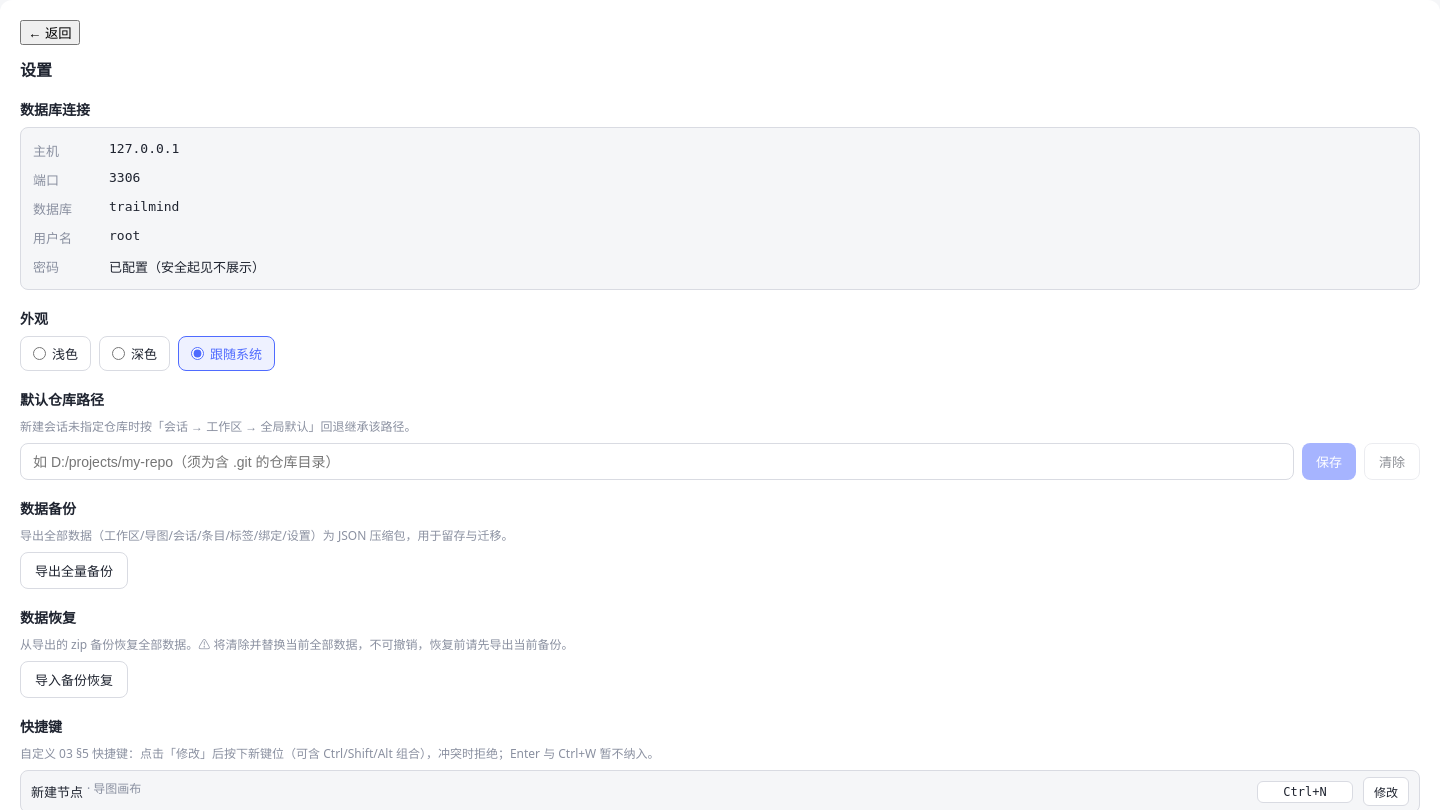
Scenario: SettingsPanel 设置页（M4 任务四） › 快捷键：与既有键位冲突时拒绝并提示（v1.2 P2）
The image size is (1440, 810).
Expected: the text "127.0.0.1" is shown, [109, 141, 180, 160]
// 「新建节点」默认 Ctrl+N，尝试设为 Ctrl+S → 与「手动保存」冲突
Click the button "修改".
click(1386, 792)  # box [1363, 777, 1409, 806]
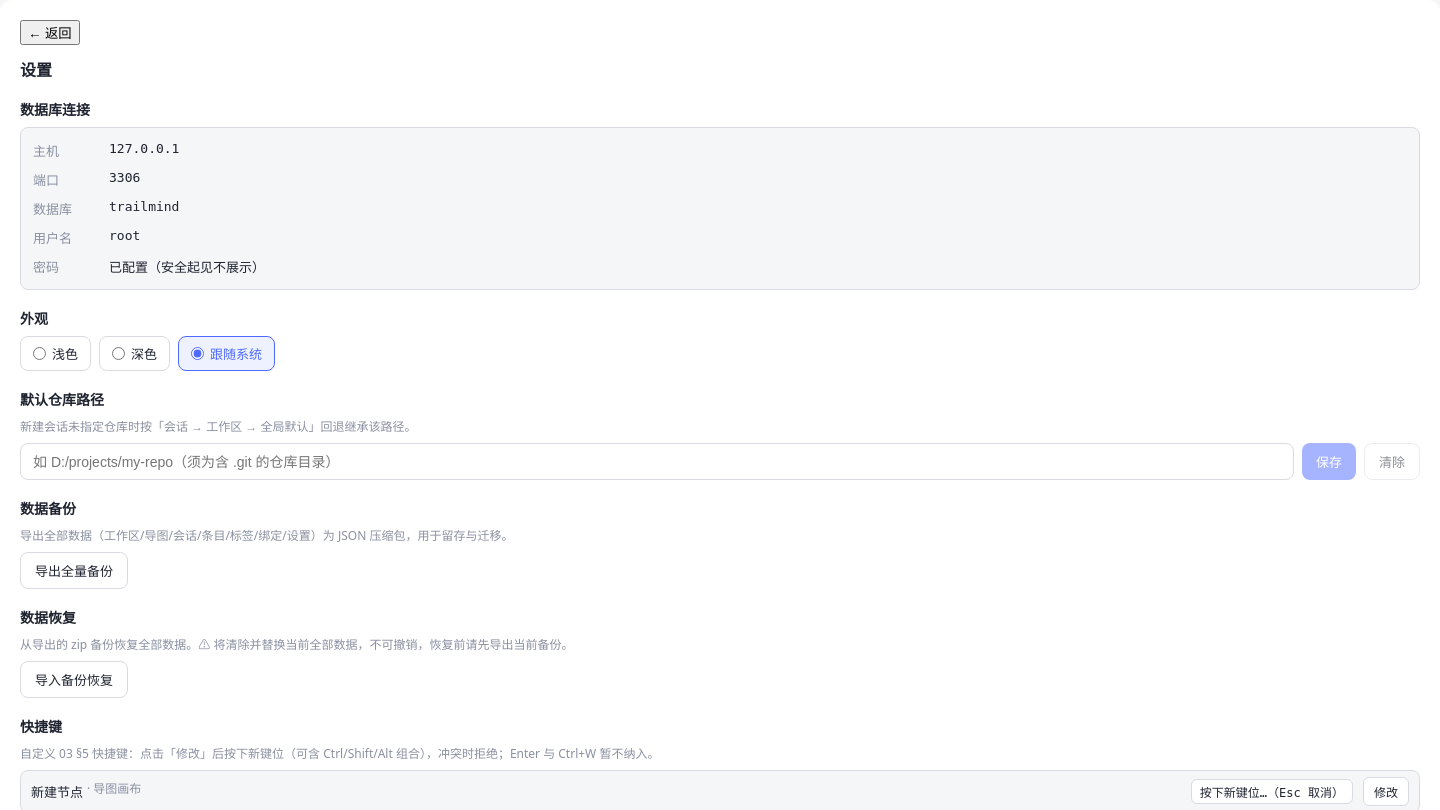
Press s
(page scrolled)
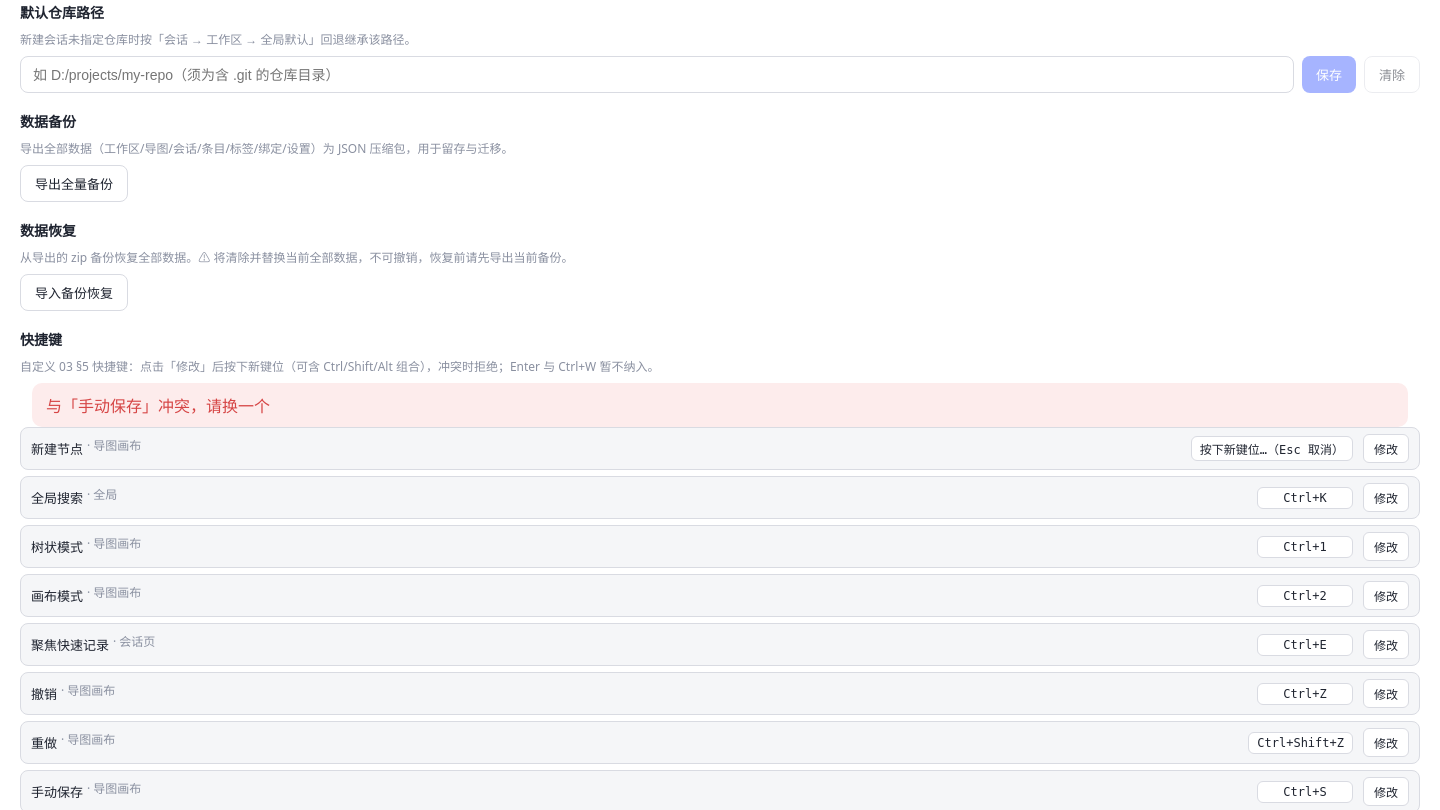
Now the message shows "冲突", box [46, 395, 270, 417]
